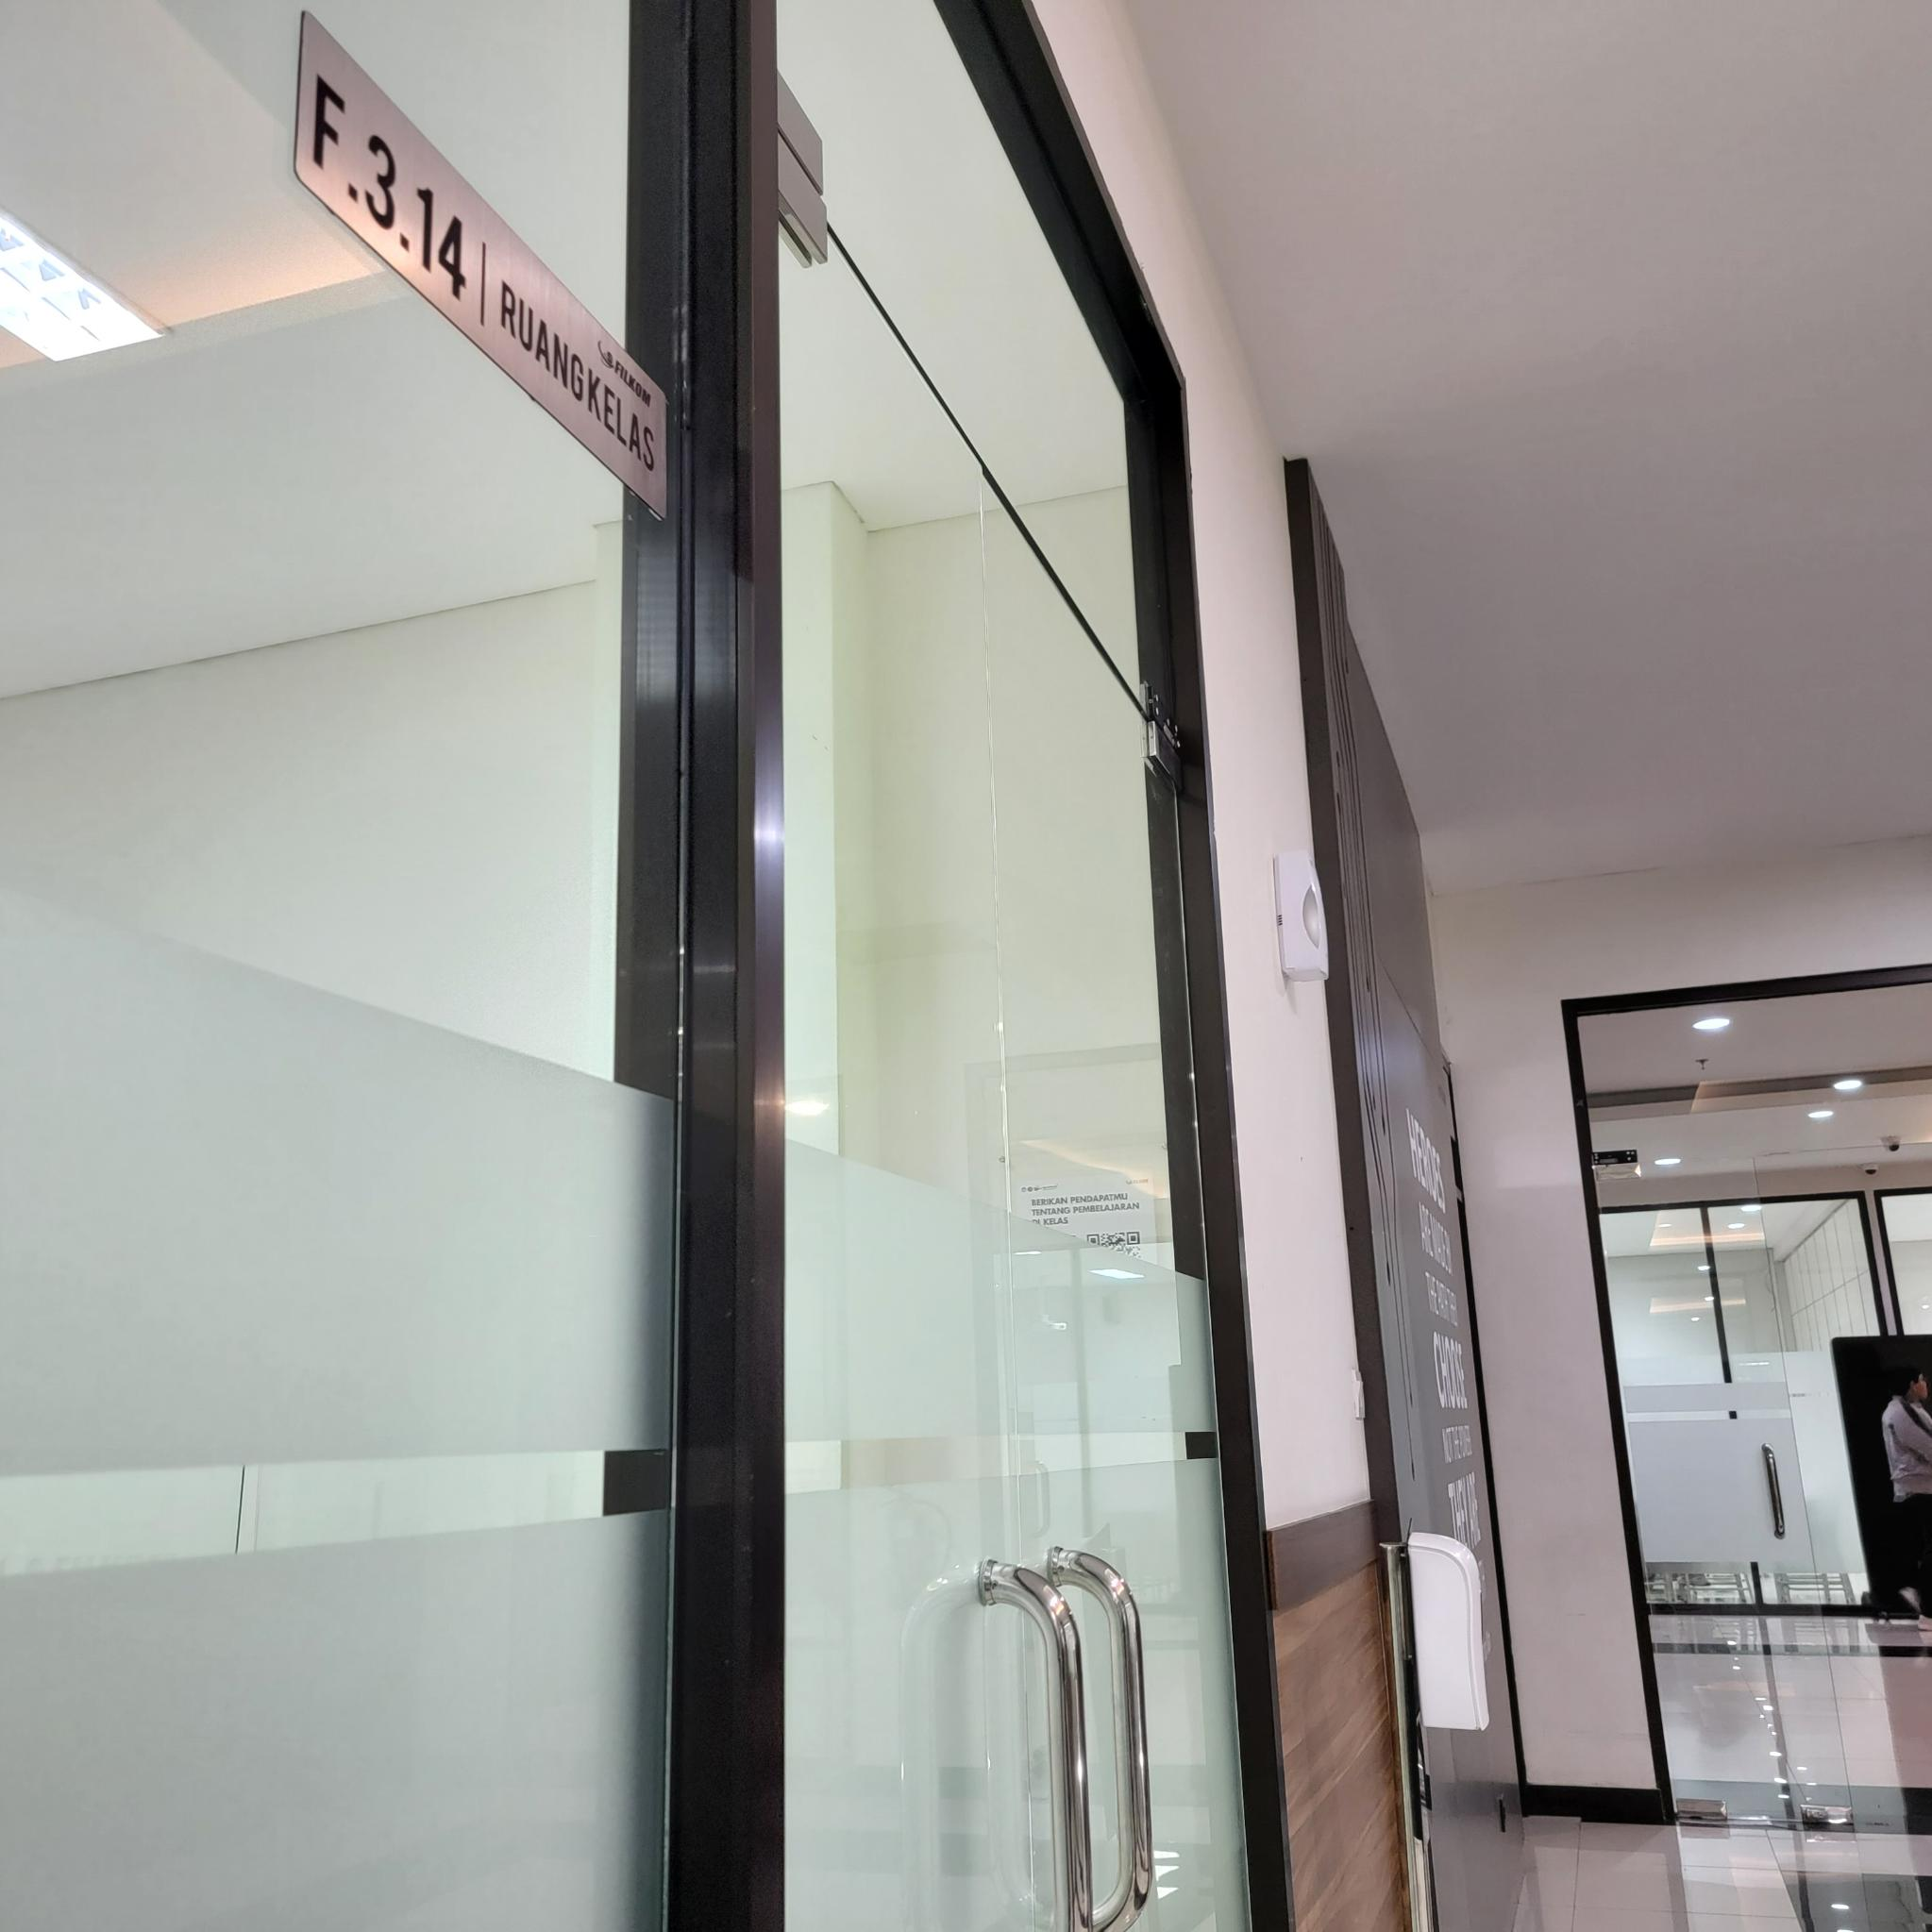plate: (292, 7, 672, 522)
